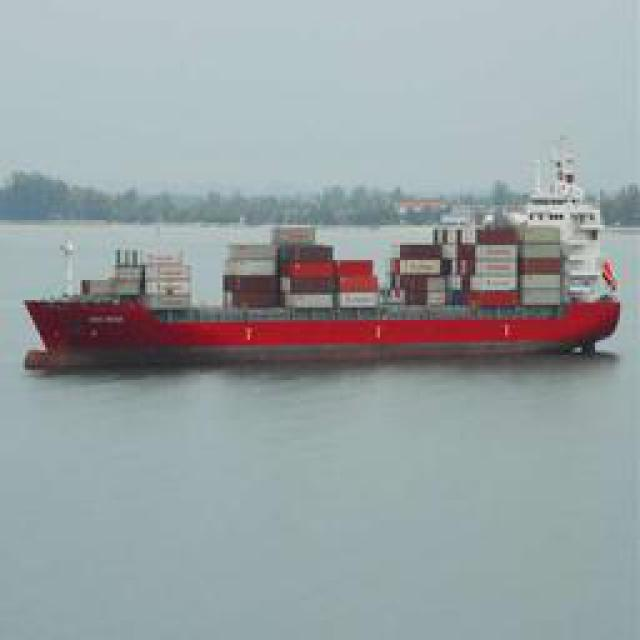Ship: (30, 160, 633, 368)
